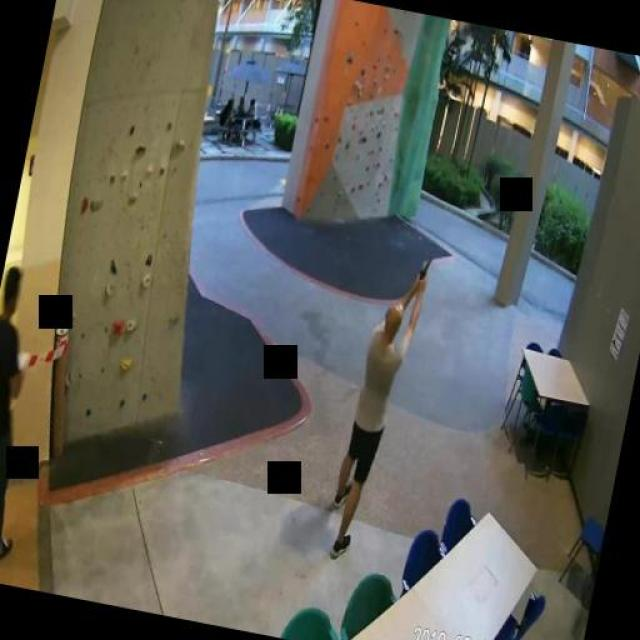gun: (416, 254, 432, 282)
